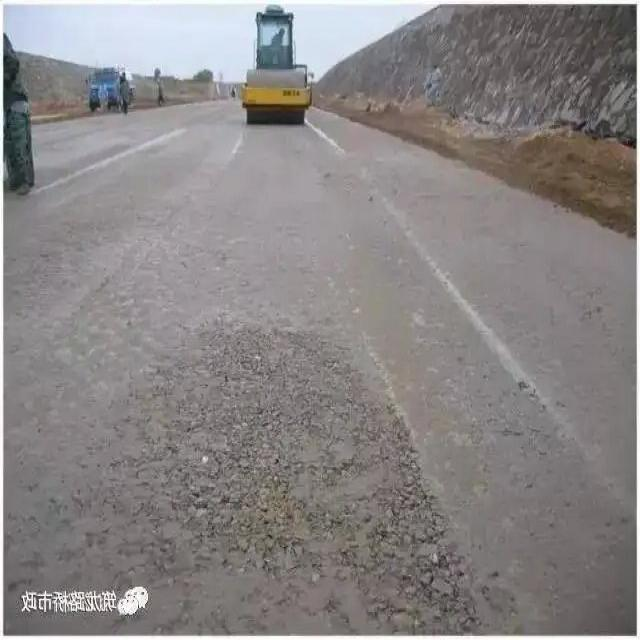pothole: (119, 313, 464, 617)
